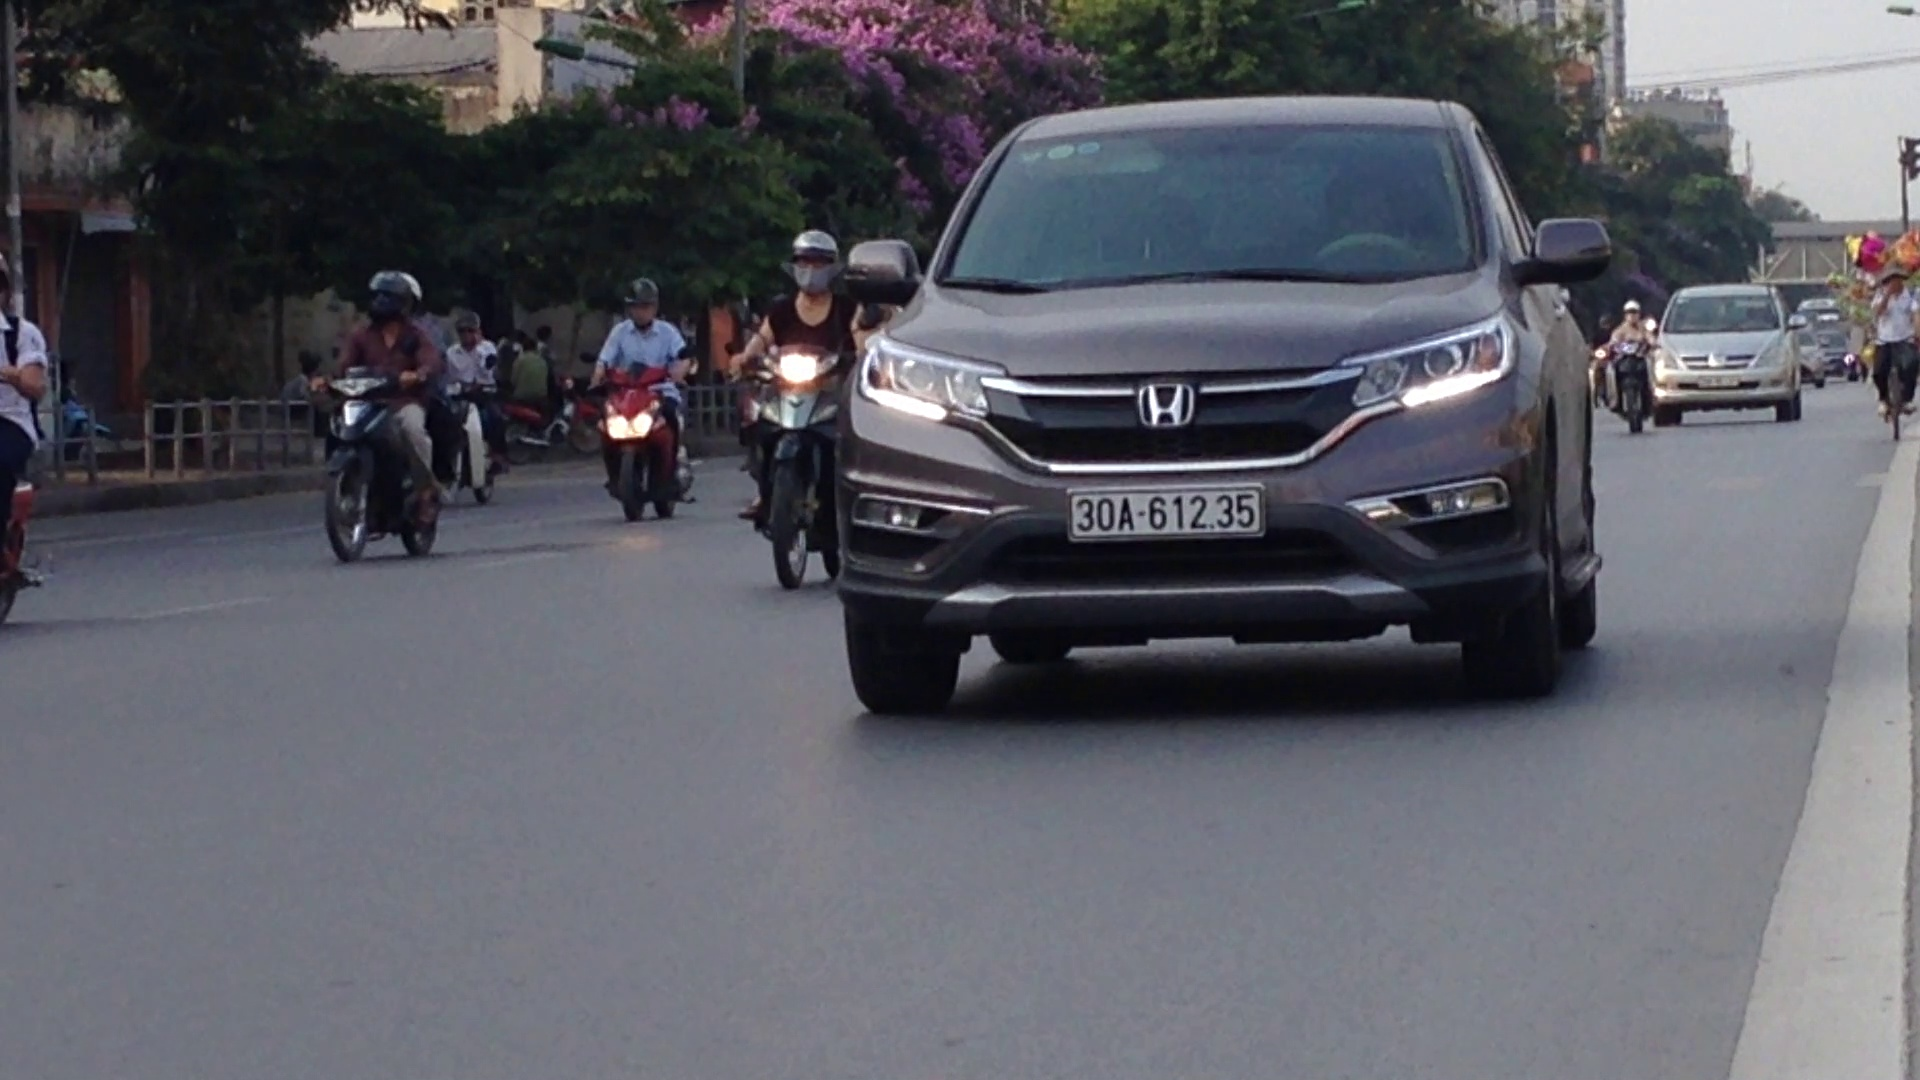vehicle-plate: (1064, 481, 1268, 540)
